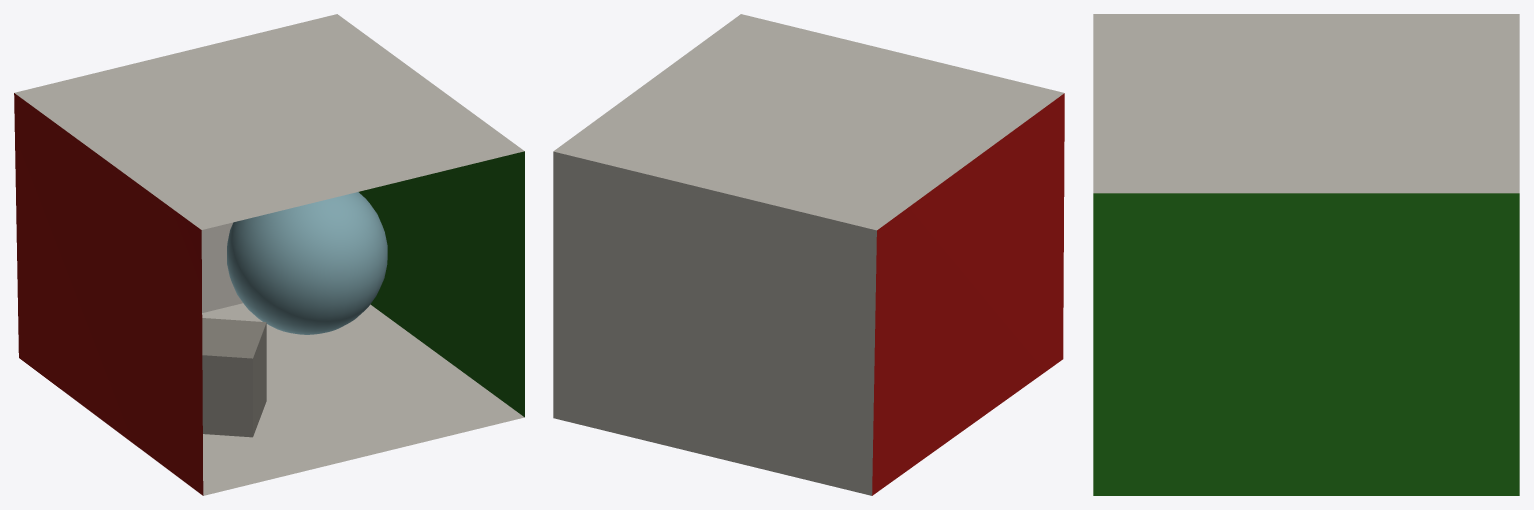
The model's file is CornellBox-Glossy.obj.
The picture shows the model from 3 angles, left to right: view 1: azimuth 30°, elevation 25°; view 2: azimuth 150°, elevation 25°; view 3: azimuth 270°, elevation 25°; orthographic projection. The views are drawn at different scales.
Visible parts, largest first — view 1: CornellBox-Glossy; view 2: CornellBox-Glossy; view 3: CornellBox-Glossy.
Part boxes in pixels (x1,y1,x2,y2): CornellBox-Glossy: (14, 14, 524, 495); CornellBox-Glossy: (553, 14, 1064, 495); CornellBox-Glossy: (1093, 14, 1519, 495).
Size of the model in its own units: 2.02 by 1.59 by 2.03.
